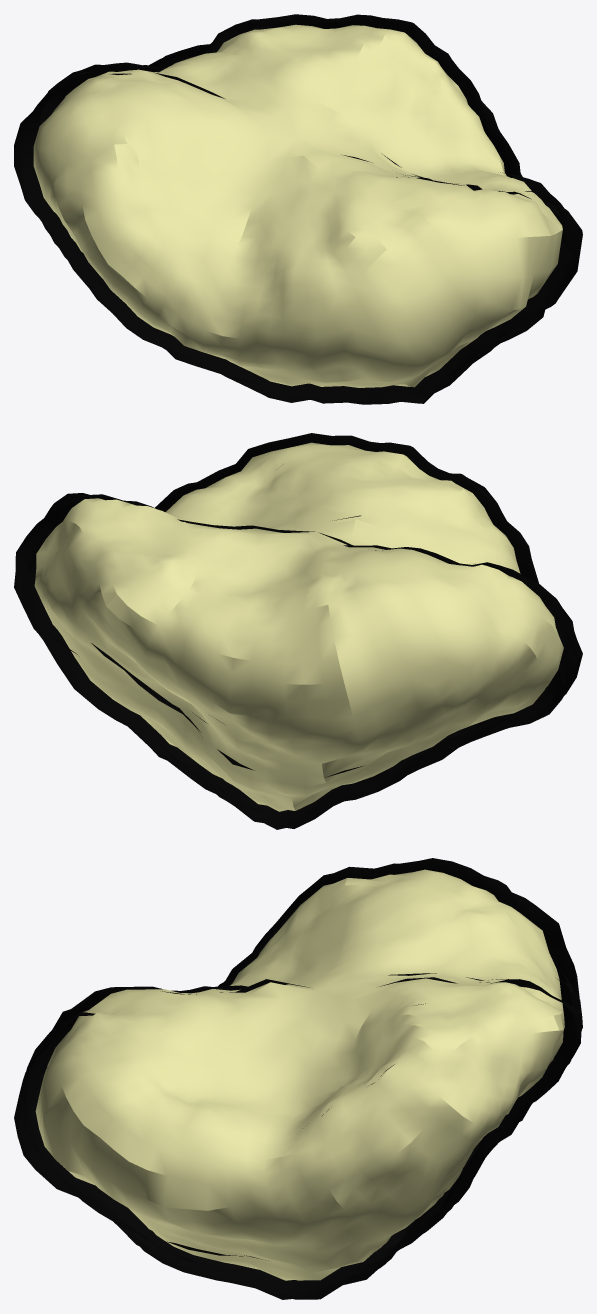
File: Rock_1.fbx
3 renders of one model, top to bottom at view 1: azimuth 30°, elevation 25°; view 2: azimuth 150°, elevation 25°; view 3: azimuth 270°, elevation 25°, orthographic. The views are drawn at different scales.
Visible parts, largest first — view 1: rock.008; view 2: rock.008; view 3: rock.008.
Part boxes in pixels (x1=…): rock.008: x1=14, y1=14, x2=582, y2=404; rock.008: x1=14, y1=433, x2=582, y2=829; rock.008: x1=14, y1=858, x2=582, y2=1299.
Bounding box in the file's own units: 1422 × 890 × 1452.
